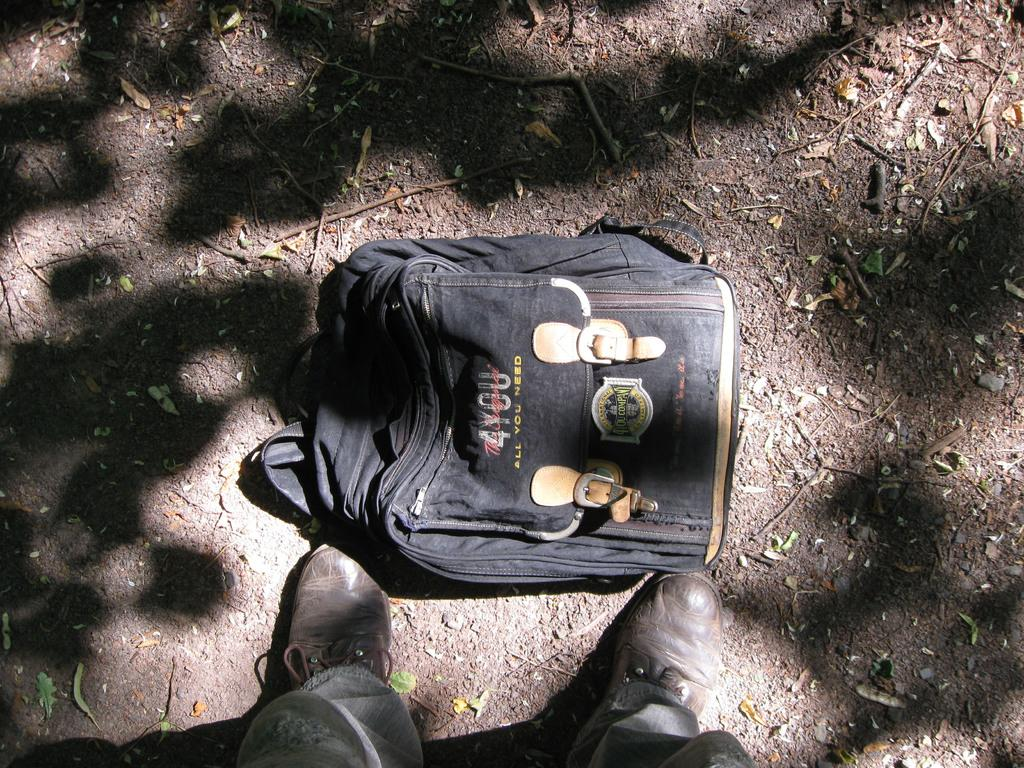Luggage-and-bags: (284, 234, 724, 590)
